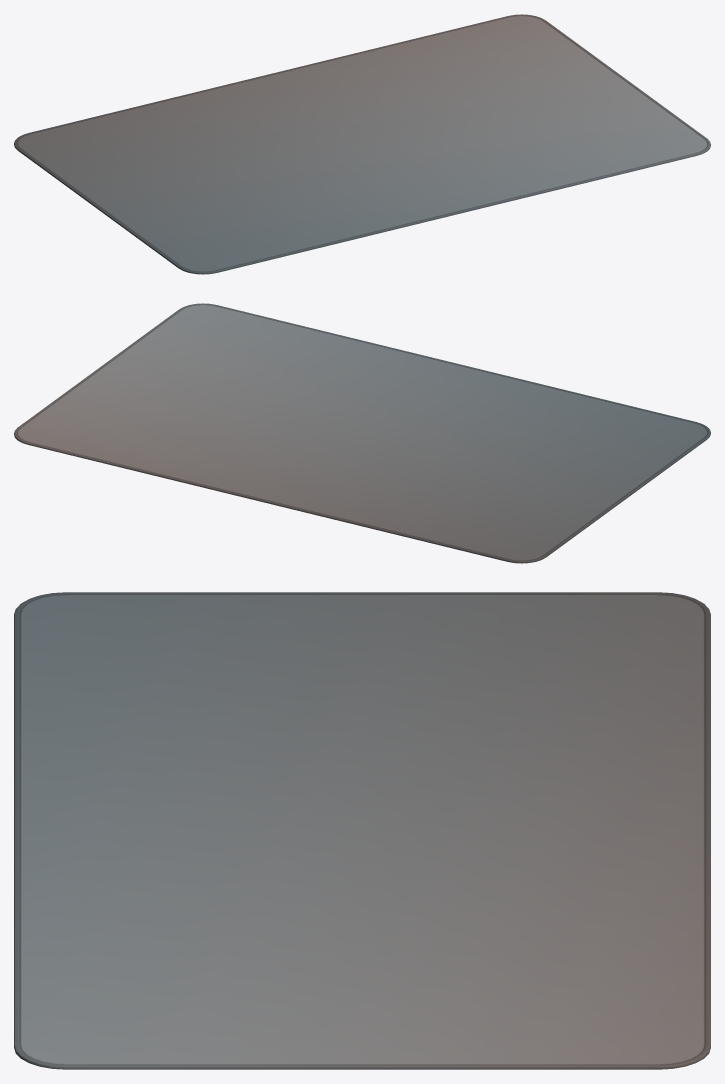
Rendered from Desk_Mat_01.fbx.
The picture shows the model from 3 angles, top to bottom: view 1: azimuth 30°, elevation 25°; view 2: azimuth 150°, elevation 25°; view 3: azimuth 270°, elevation 25°; orthographic projection. The views are drawn at different scales.
Parts seen in each view (by area): view 1: Desk_Mat_01; view 2: Desk_Mat_01; view 3: Desk_Mat_01.
Part boxes in pixels (x1=…): Desk_Mat_01: x1=14, y1=14, x2=710, y2=274; Desk_Mat_01: x1=14, y1=303, x2=710, y2=563; Desk_Mat_01: x1=14, y1=592, x2=710, y2=1069.
Size of the model in its own units: 111 by 0.319 by 69.13.
